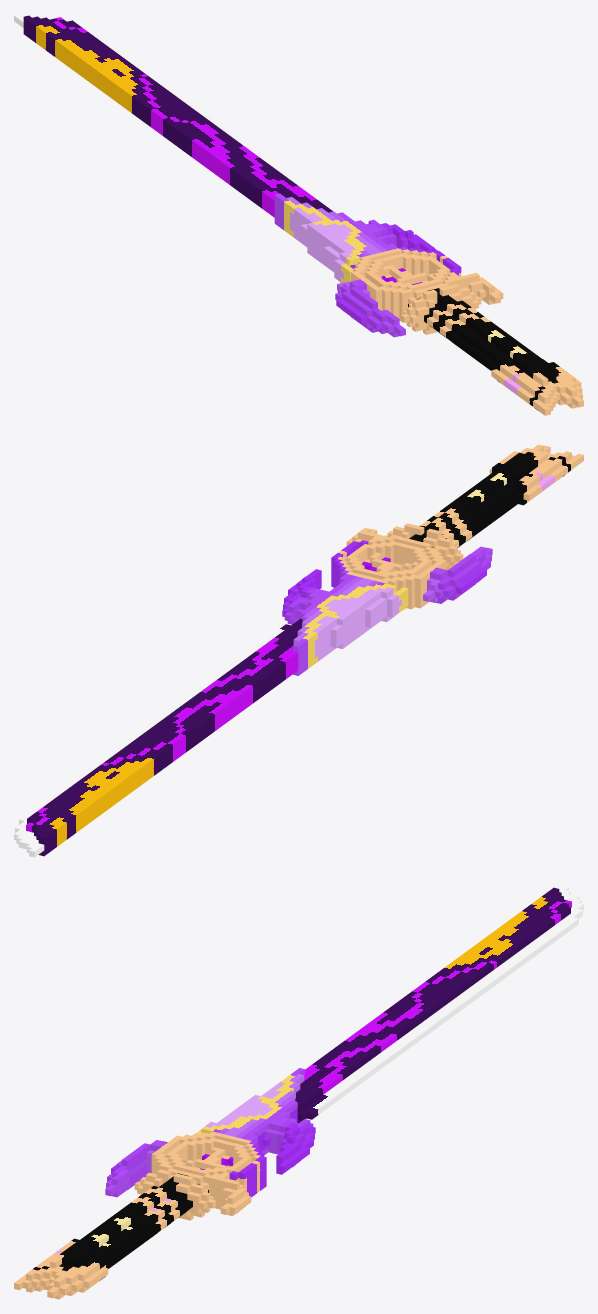
The model's file is 【原神】雾切之回光.gltf.
The picture shows the model from 3 angles, top to bottom: view 1: azimuth 30°, elevation 25°; view 2: azimuth 150°, elevation 25°; view 3: azimuth 330°, elevation 25°; orthographic projection.
Visible parts, largest first — view 1: Object; view 2: Object; view 3: Object.
Part boxes in pixels (x1,y1,x2,y2): Object: (14,14,583,415); Object: (14,444,583,857); Object: (14,886,583,1299).
Bounding box in the file's own units: 24 × 7 × 169.
1 material, 1 textured.
